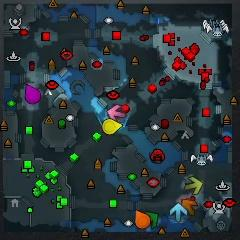p3: (25, 85, 41, 104)
p4: (103, 119, 123, 135)
p5: (135, 209, 150, 228)
x1: (107, 105, 125, 121)
x2: (185, 177, 203, 195)
x3: (171, 203, 187, 222)
x4: (146, 212, 158, 229)
x5: (181, 199, 197, 215)
